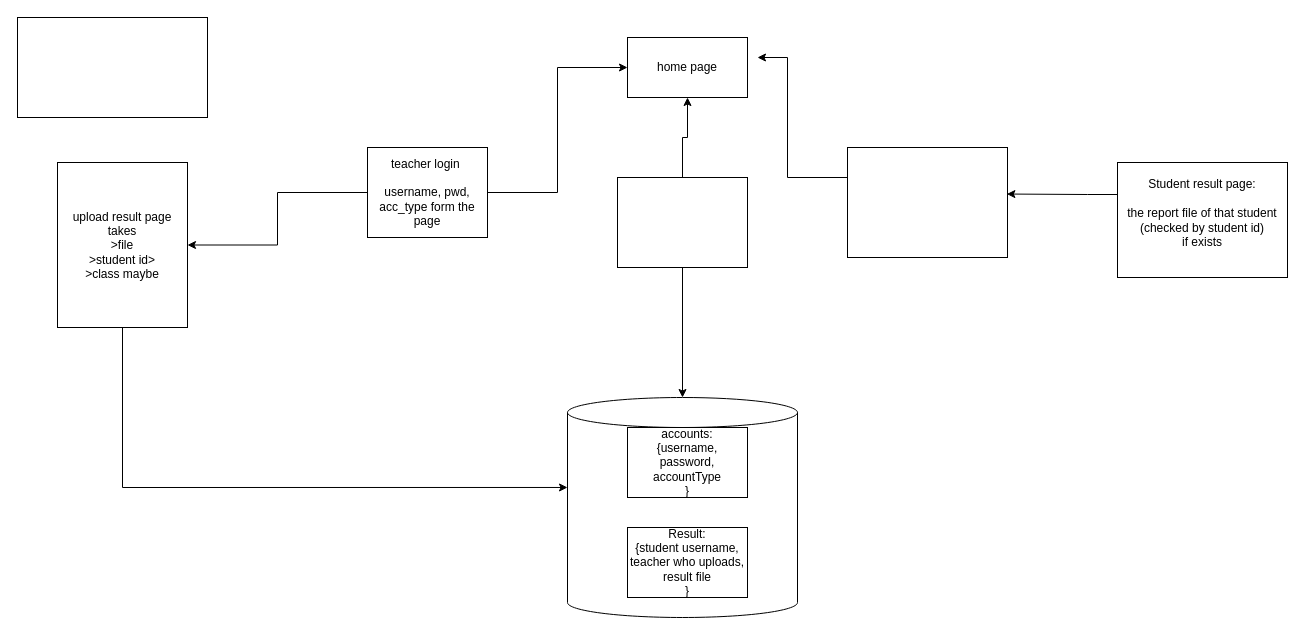
This 1305x635 diagram has some shape labels left out. The box of each missing label's shape, as (x1, y1, x2, y2) in pixels:
create accout >username >password >account type(teache/student): (616, 176, 748, 268)
gotta think more about this part, plus ways to store a file in db: (16, 16, 208, 118)
student login username, pwd, acc_type form the page: (846, 146, 1008, 258)
